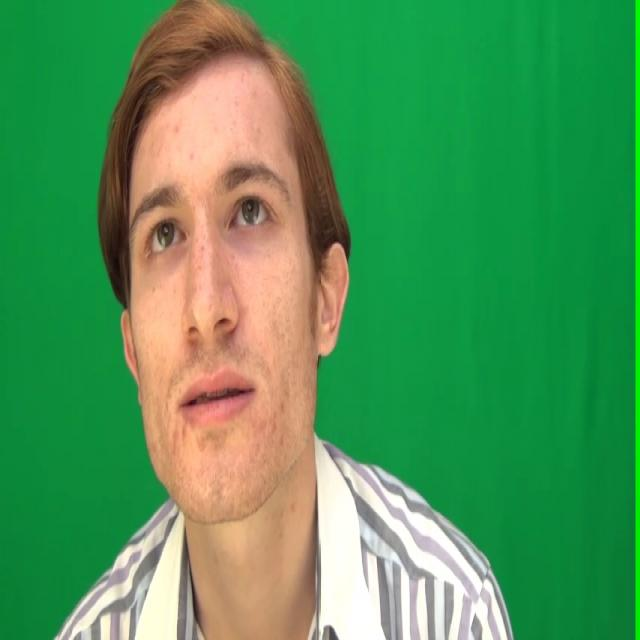Engaged: (130, 49, 316, 512)
